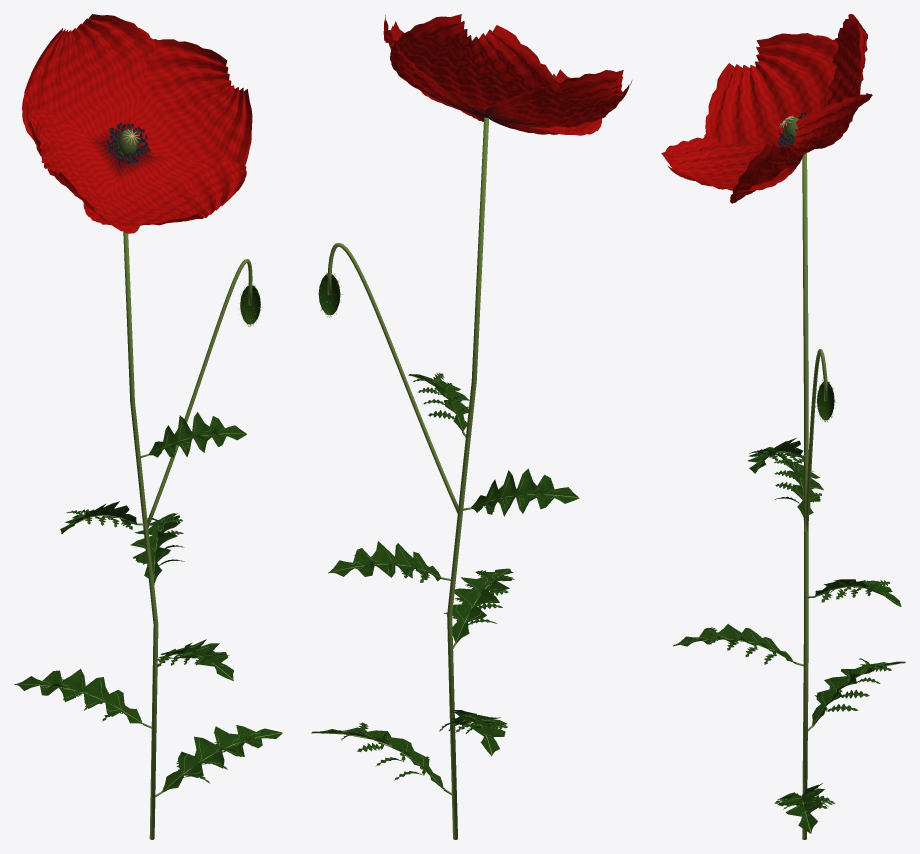
3 renders of one model, left to right at view 1: azimuth 30°, elevation 25°; view 2: azimuth 150°, elevation 25°; view 3: azimuth 270°, elevation 25°, orthographic. The views are drawn at different scales.
Parts seen in each view (by area): view 1: four_crinkled_papery_petals, leaves, stems, leaf_secondary_veins, leaf_midribs, dark_anthers, nodding_bud; view 2: four_crinkled_papery_petals, leaves, stems, leaf_secondary_veins, leaf_midribs, nodding_bud; view 3: four_crinkled_papery_petals, leaves, stems, leaf_midribs, leaf_secondary_veins, nodding_bud.
Part boxes in pixels (bbox=[...]): four_crinkled_papery_petals: bbox=[22, 14, 252, 233]; leaves: bbox=[15, 412, 281, 792]; stems: bbox=[123, 231, 252, 839]; leaf_secondary_veins: bbox=[35, 419, 265, 779]; leaf_midribs: bbox=[14, 431, 282, 791]; dark_anthers: bbox=[106, 122, 150, 164]; nodding_bud: bbox=[240, 285, 260, 324]; four_crinkled_papery_petals: bbox=[383, 14, 632, 135]; leaves: bbox=[311, 372, 579, 790]; stems: bbox=[327, 117, 488, 839]; leaf_secondary_veins: bbox=[341, 376, 558, 776]; leaf_midribs: bbox=[311, 374, 579, 789]; nodding_bud: bbox=[318, 274, 340, 314]; four_crinkled_papery_petals: bbox=[661, 14, 872, 203]; leaves: bbox=[673, 438, 905, 833]; stems: bbox=[795, 153, 827, 839]; leaf_midribs: bbox=[673, 451, 905, 833]; leaf_secondary_veins: bbox=[694, 440, 890, 819]; nodding_bud: bbox=[817, 382, 834, 420].
Size of the model in its own units: 0.1727 by 0.4982 by 0.1385.
8 materials, 2 textured.
